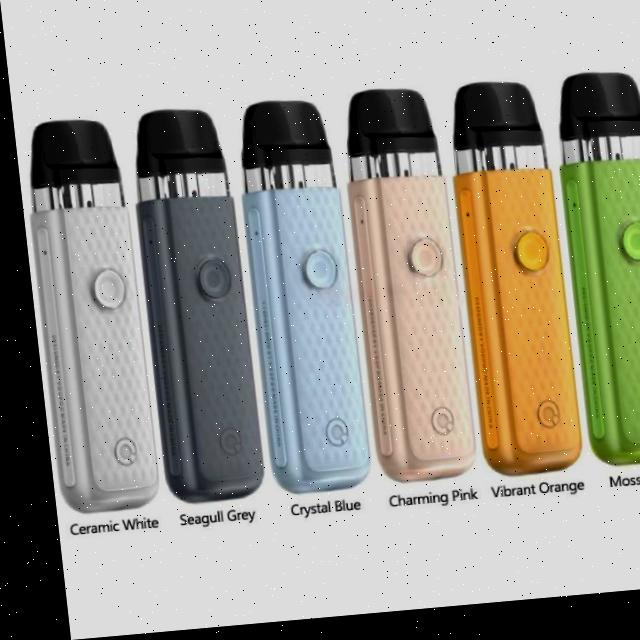vape: (438, 85, 574, 488), (16, 117, 152, 518), (120, 107, 256, 508), (334, 89, 469, 492), (228, 101, 362, 501), (546, 78, 640, 481)
